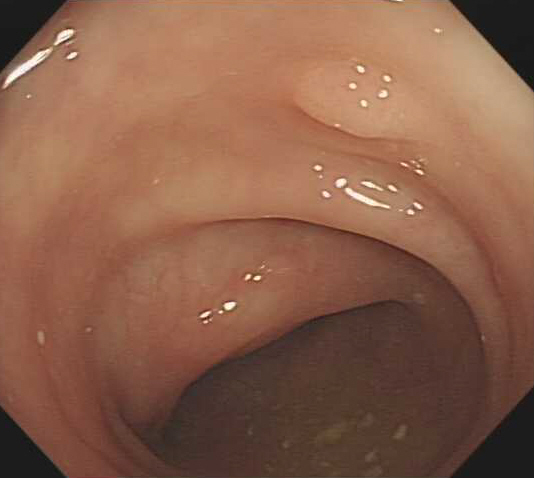adenoma: (289, 58, 449, 146)
